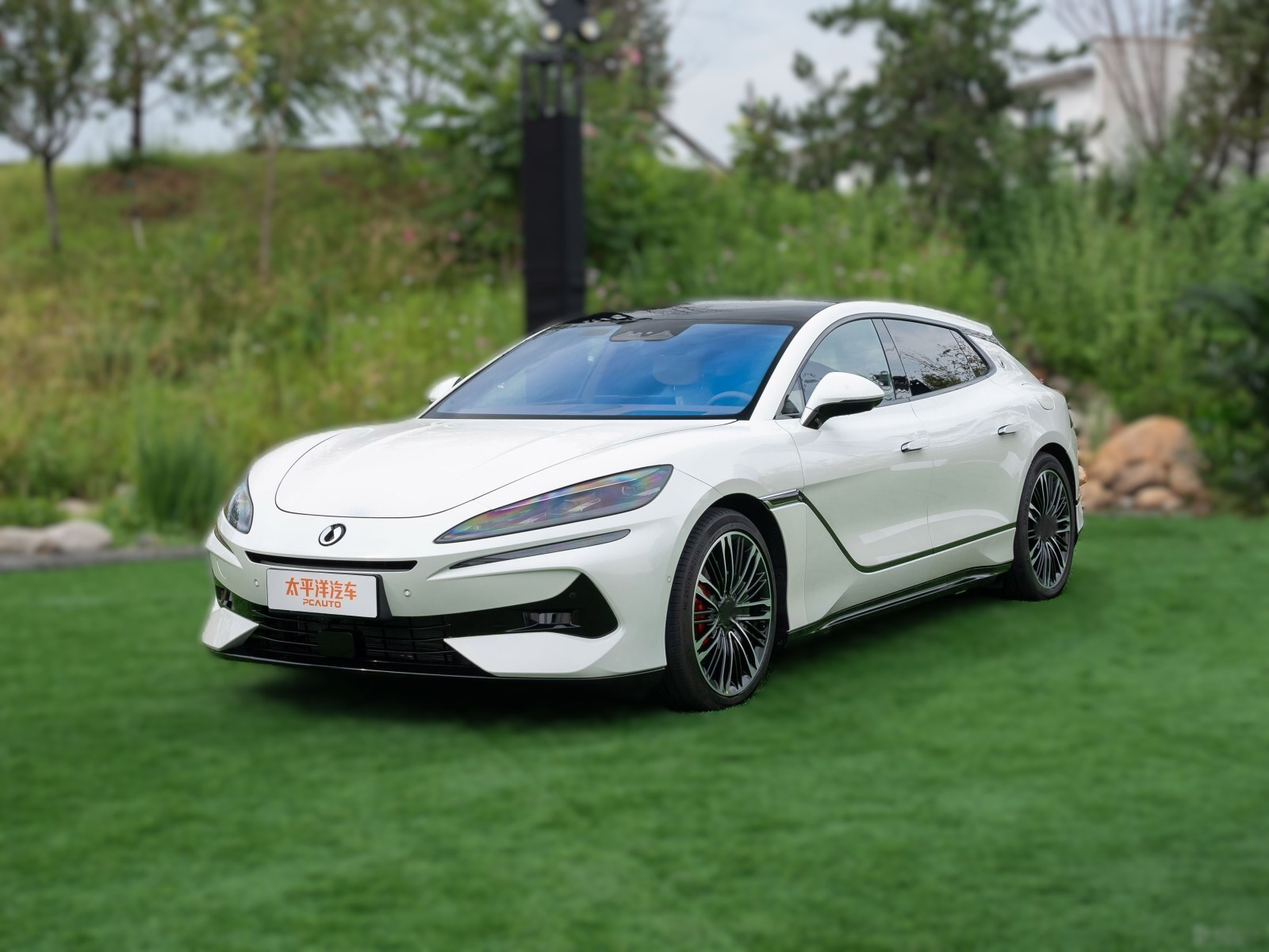DENZA: (320, 527, 341, 543)
